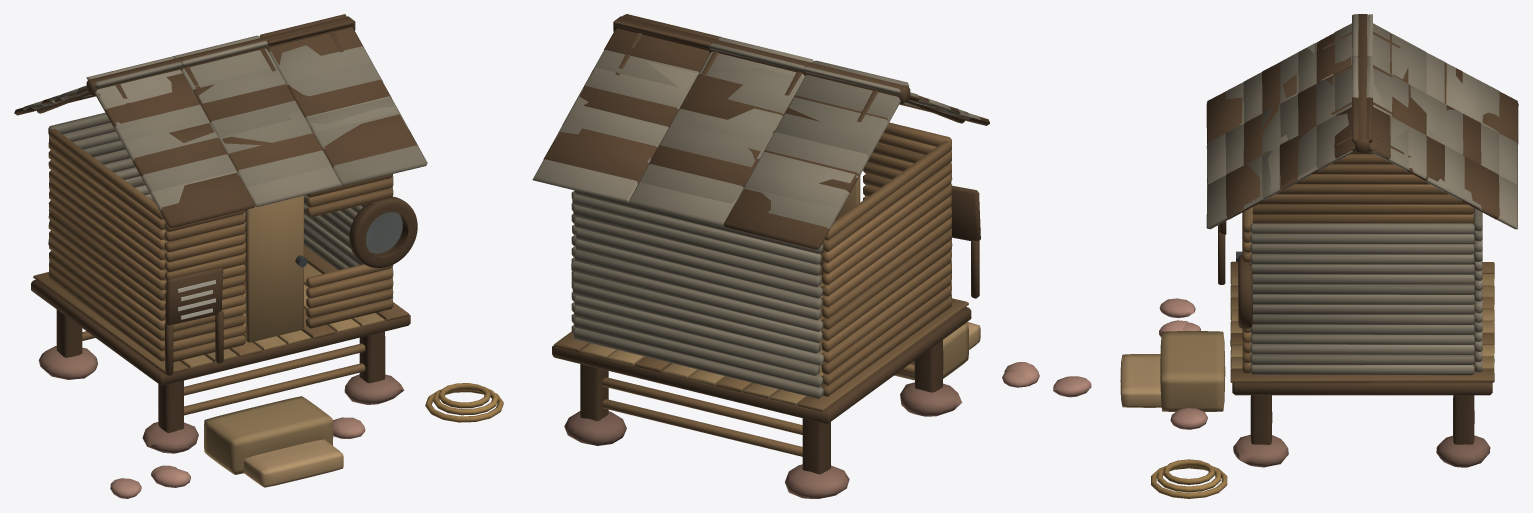
Rendered from lookout_hut_a.glb.
3 renders of one model, left to right at view 1: azimuth 30°, elevation 25°; view 2: azimuth 150°, elevation 25°; view 3: azimuth 270°, elevation 25°, orthographic. The views are drawn at different scales.
Parts seen in each view (by area): view 1: Surface; view 2: Surface; view 3: Surface.
Part boxes in pixels (bbox=[...]): Surface: bbox=[14, 14, 503, 498]; Surface: bbox=[532, 14, 1091, 498]; Surface: bbox=[1120, 14, 1518, 498].
Bounding box in the file's own units: 6.25 × 5.18 × 5.51.
